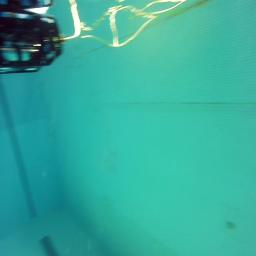Side: (0, 13, 64, 73)
